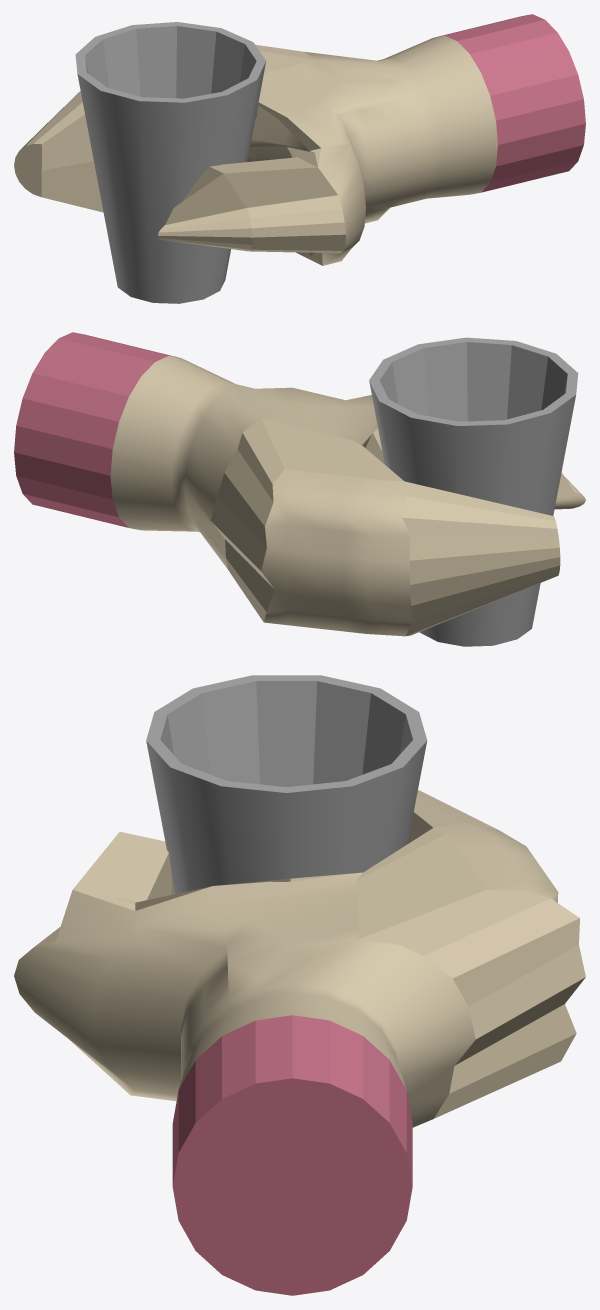
The model's file is el_ve_kahve.fbx.
3 views of the same model, one above another, from view 1: azimuth 30°, elevation 25°; view 2: azimuth 150°, elevation 25°; view 3: azimuth 270°, elevation 25° (orthographic). The views are drawn at different scales.
Visible parts, largest first — view 1: kol, coffee; view 2: kol, coffee; view 3: kol, coffee.
Part boxes in pixels (x1,y1,x2,y2): kol: (14, 14, 585, 265); coffee: (75, 22, 266, 303); kol: (14, 332, 585, 636); coffee: (369, 337, 578, 646); kol: (14, 790, 585, 1295); coffee: (146, 675, 427, 893).
Bounding box in the file's own units: 7.74 × 3.27 × 5.28.
